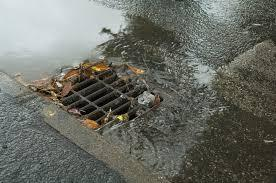drainage_overflow: (17, 36, 191, 144)
